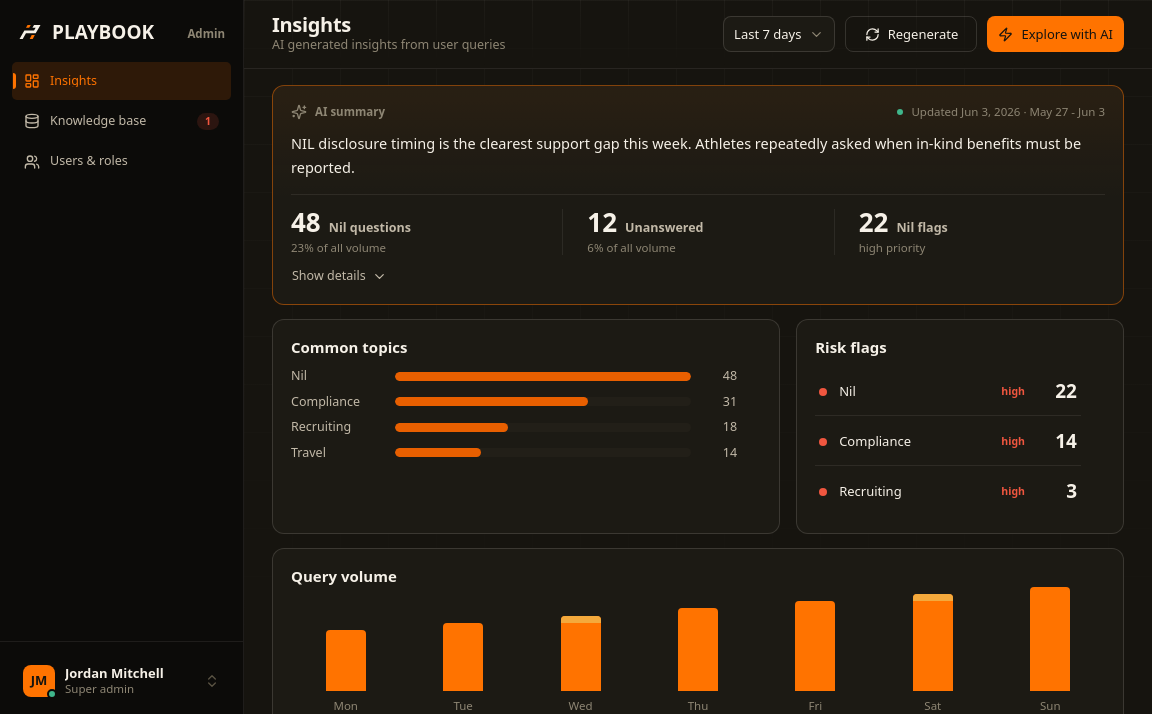
Test case: AdminShell › paginates 30-day query volume by week
Click the button "Last 7 days".
click(779, 34)  # box [723,16,836,52]
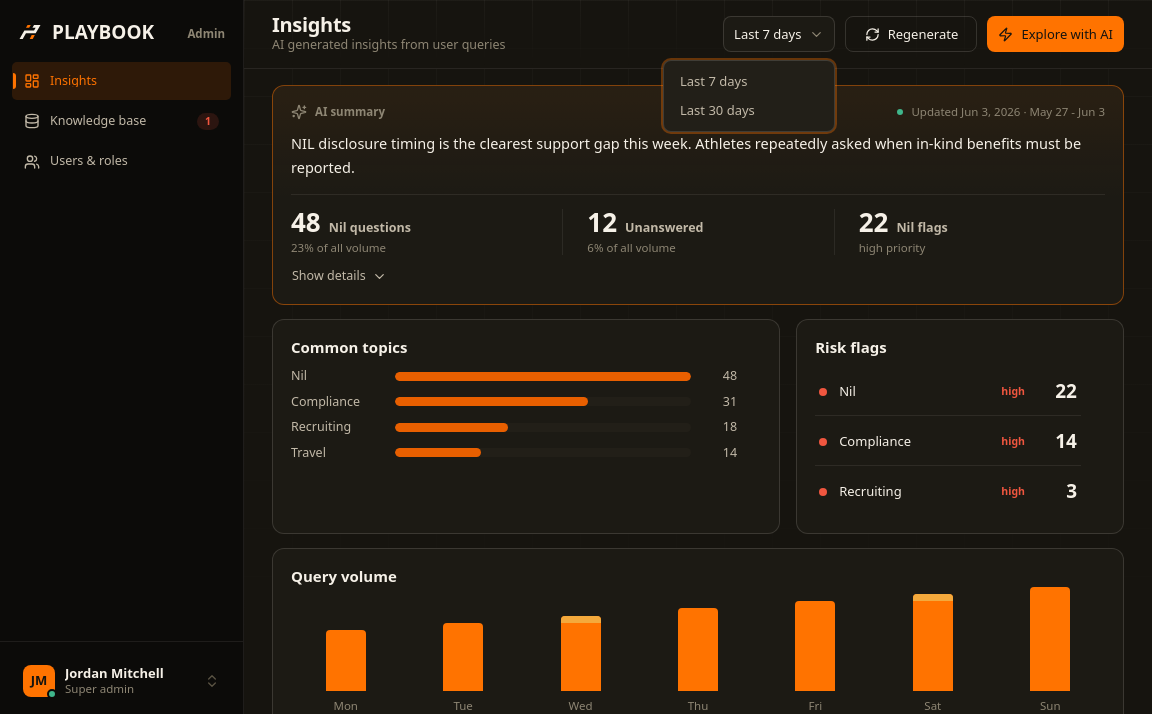
Click the menu item "Last 30 days".
click(717, 110)  # box [680,101,755,119]
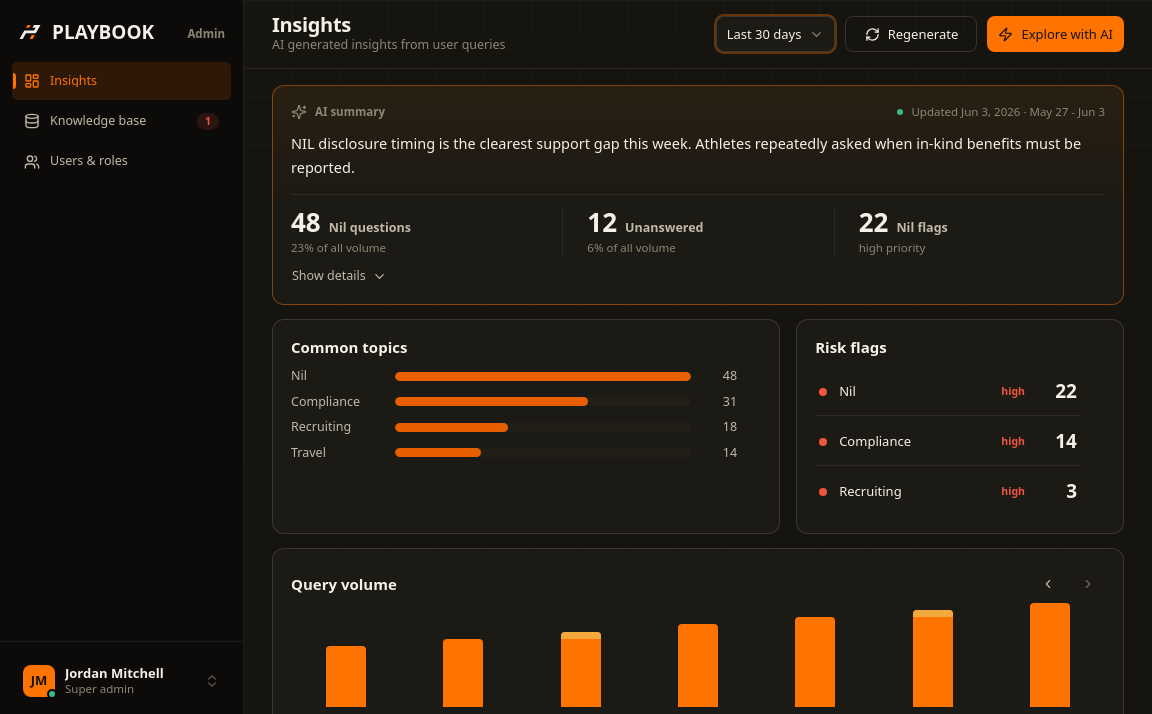
Expected: the element named "Jun 14: 14 questions" is shown, [1030,603,1070,707]
Click the button named "Previous query-volume week".
click(1048, 584)  # box [1031,567,1065,601]
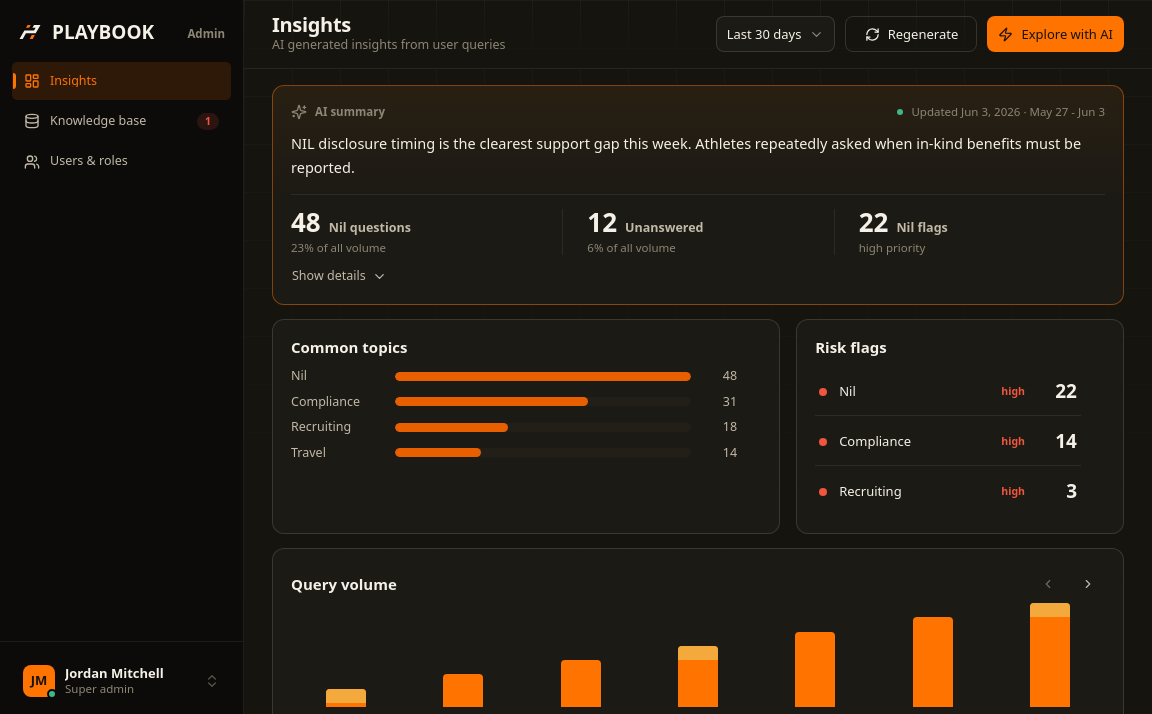
Expected: the element named "Jun 1: 1 questions" is shown, [326,689,366,707]
